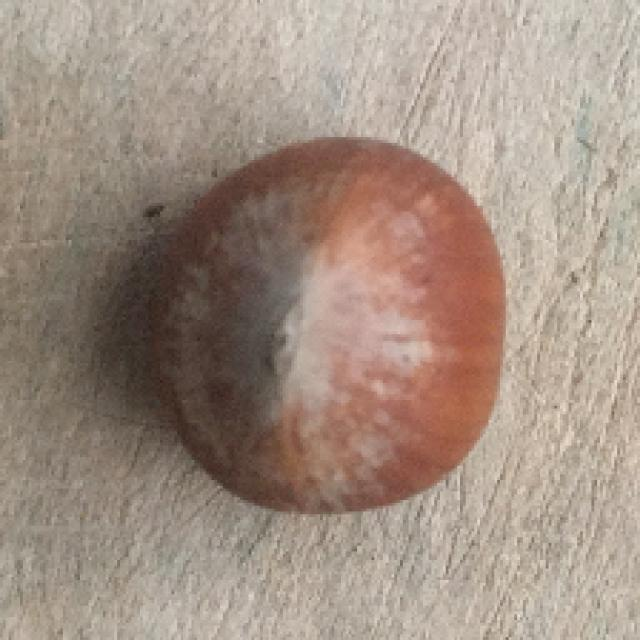qualityHazelnut: (128, 137, 510, 531)
